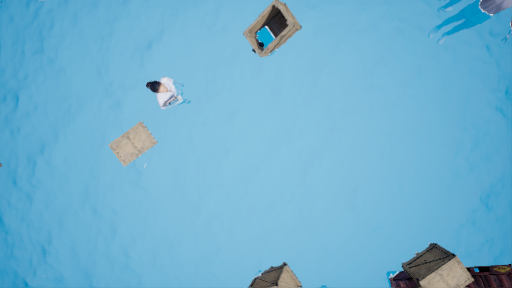person: (151, 78, 193, 112)
